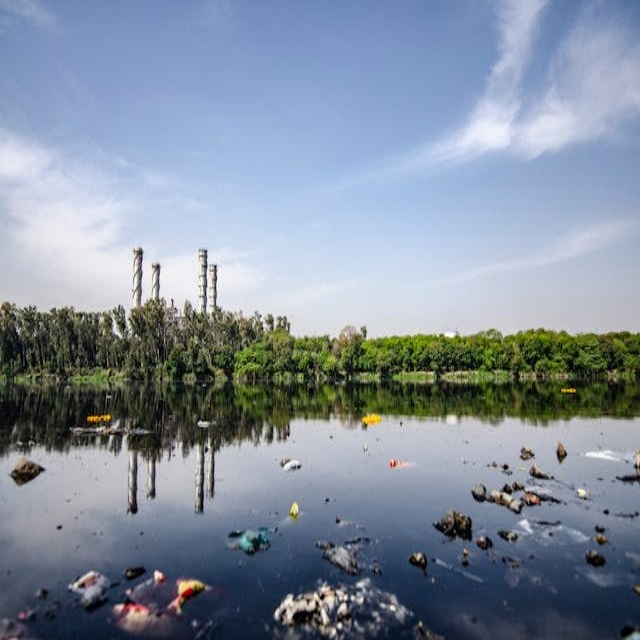algae_bloom: (161, 332, 640, 421)
contaminated_water: (13, 13, 627, 627)
foam_scum: (0, 130, 640, 339), (16, 416, 640, 509), (438, 44, 640, 157)
turbid_water: (0, 255, 640, 491)
